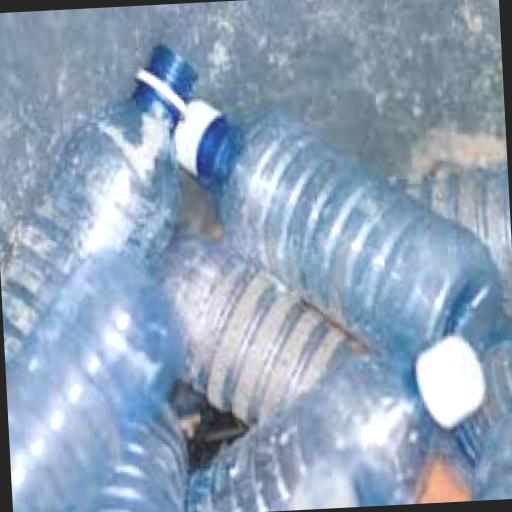plastic: (170, 82, 501, 374), (0, 36, 211, 359), (173, 332, 486, 512), (0, 245, 195, 512), (160, 218, 379, 436), (378, 163, 512, 310), (80, 391, 190, 512), (440, 330, 512, 500), (412, 329, 481, 428), (170, 96, 228, 192)
